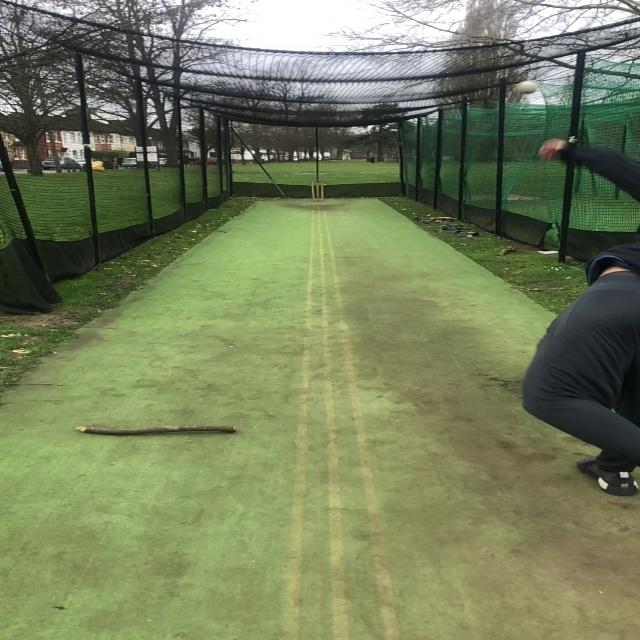ball: (516, 80, 538, 95)
